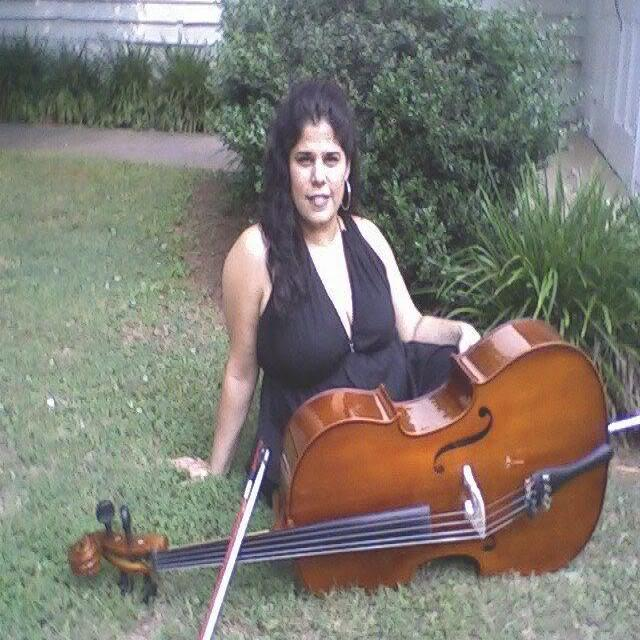cello: (64, 308, 614, 595)
